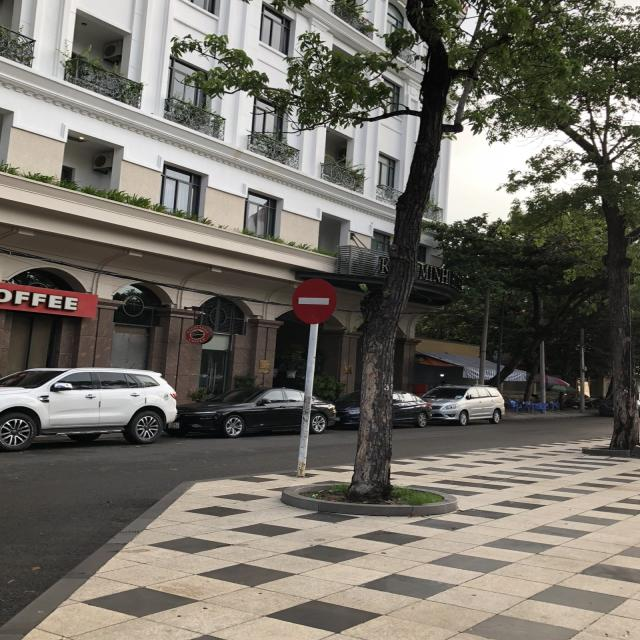Bien bao cam di nguoc chieu: (286, 274, 343, 326)
